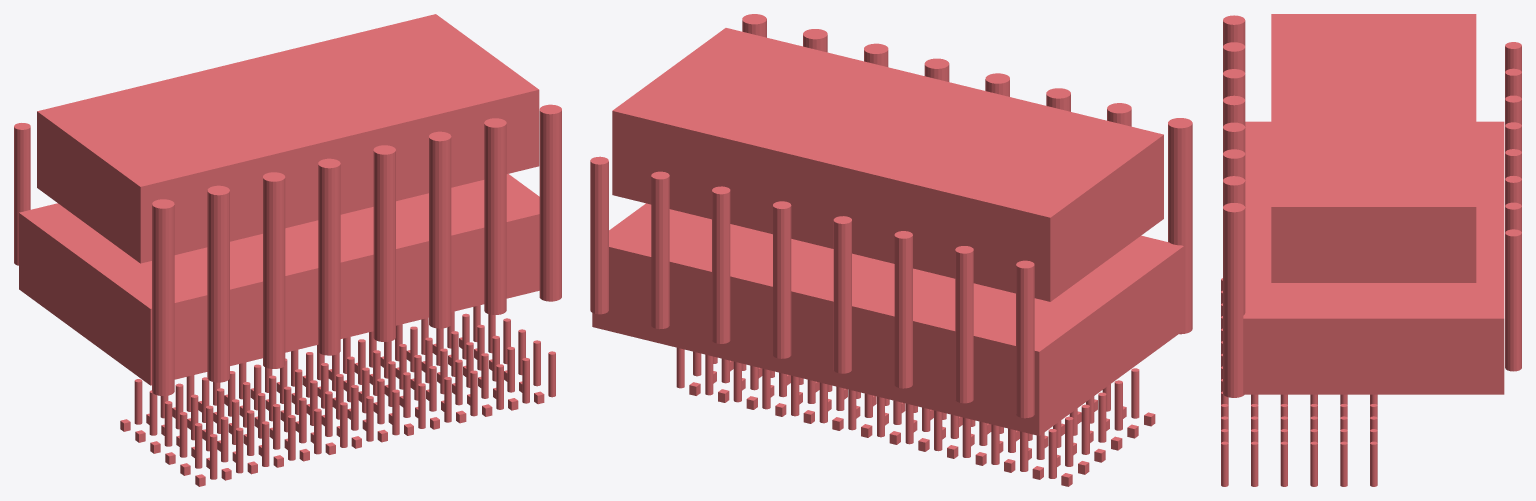
3 views of the same model, side by side, from view 1: azimuth 30°, elevation 25°; view 2: azimuth 150°, elevation 25°; view 3: azimuth 270°, elevation 25° (orthographic). The views are drawn at different scales.
Visible parts, largest first — view 1: cis_assembly_line_sketchfab_001; view 2: cis_assembly_line_sketchfab_001; view 3: cis_assembly_line_sketchfab_001.
Part boxes in pixels (bbox=[...]): cis_assembly_line_sketchfab_001: bbox=[14, 14, 561, 486]; cis_assembly_line_sketchfab_001: bbox=[590, 14, 1192, 486]; cis_assembly_line_sketchfab_001: bbox=[1221, 14, 1521, 486].
Bounding box in the file's own units: 2.51 × 1.7 × 1.62.
